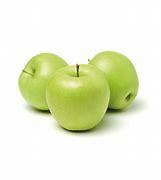apple: (45, 64, 112, 132), (15, 52, 71, 110), (90, 53, 141, 109)
